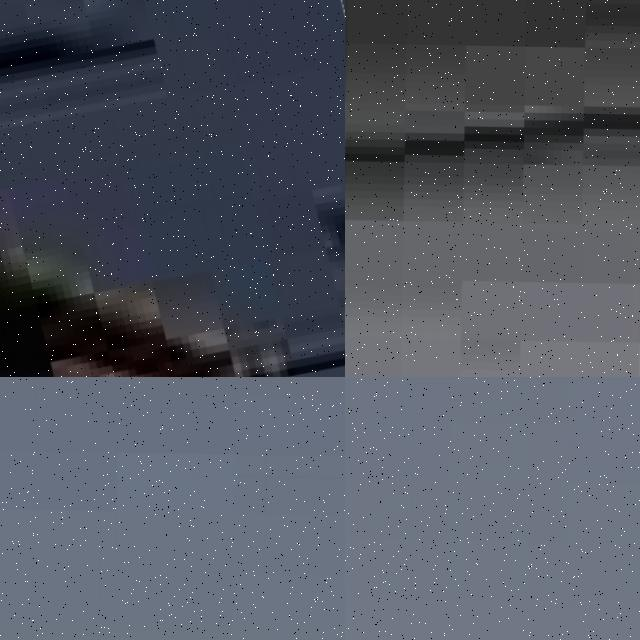drone: (0, 0, 345, 377)
